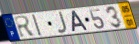3: (105, 5, 123, 29)
5: (88, 7, 105, 30)
A: (72, 10, 90, 33)
I: (31, 13, 44, 37)
J: (57, 11, 69, 35)
R: (13, 14, 37, 39)
